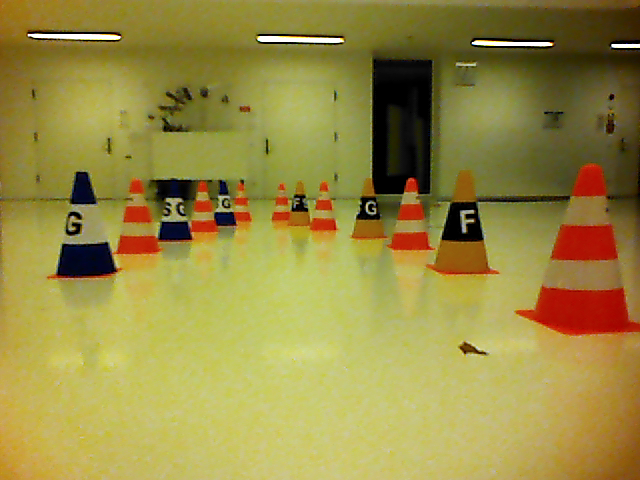bluecone: (57, 169, 116, 276), (159, 177, 193, 241), (215, 181, 236, 225)
orangeconesmall: (534, 162, 634, 332), (116, 179, 159, 253), (394, 176, 430, 249), (193, 181, 217, 231), (313, 183, 336, 229)
yellowcone: (435, 170, 490, 272), (351, 178, 386, 238), (287, 181, 312, 225)
